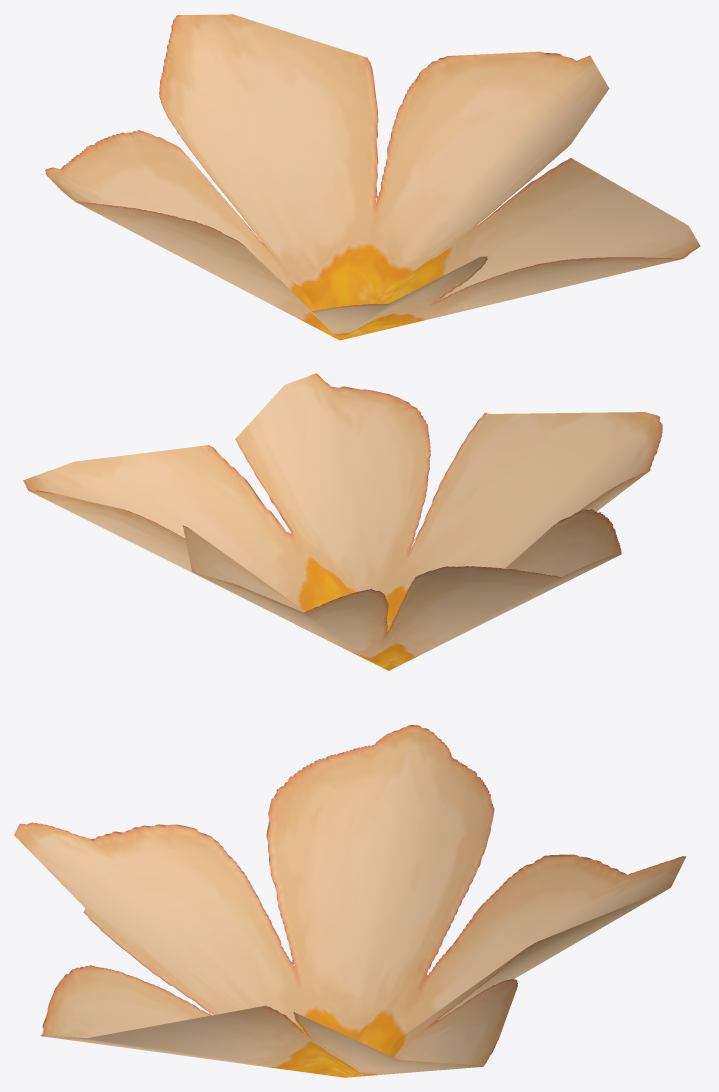
File: Petal_2.gltf
3 views of the same model, one above another, from view 1: azimuth 30°, elevation 25°; view 2: azimuth 150°, elevation 25°; view 3: azimuth 270°, elevation 25° (orthographic). The views are drawn at different scales.
Parts seen in each view (by area): view 1: Petal_2; view 2: Petal_2; view 3: Petal_2.
Boxes of the visible parts, bbox=[...] form: Petal_2: bbox=[45, 14, 700, 340]; Petal_2: bbox=[23, 373, 662, 670]; Petal_2: bbox=[14, 725, 686, 1077].
Bounding box in the file's own units: 0.6732 × 0.2361 × 0.6311.
1 material, 1 textured.
